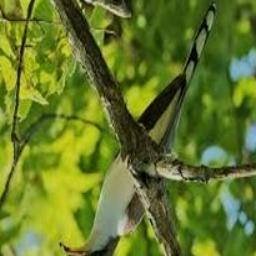Cuckoo: (64, 5, 216, 256)
